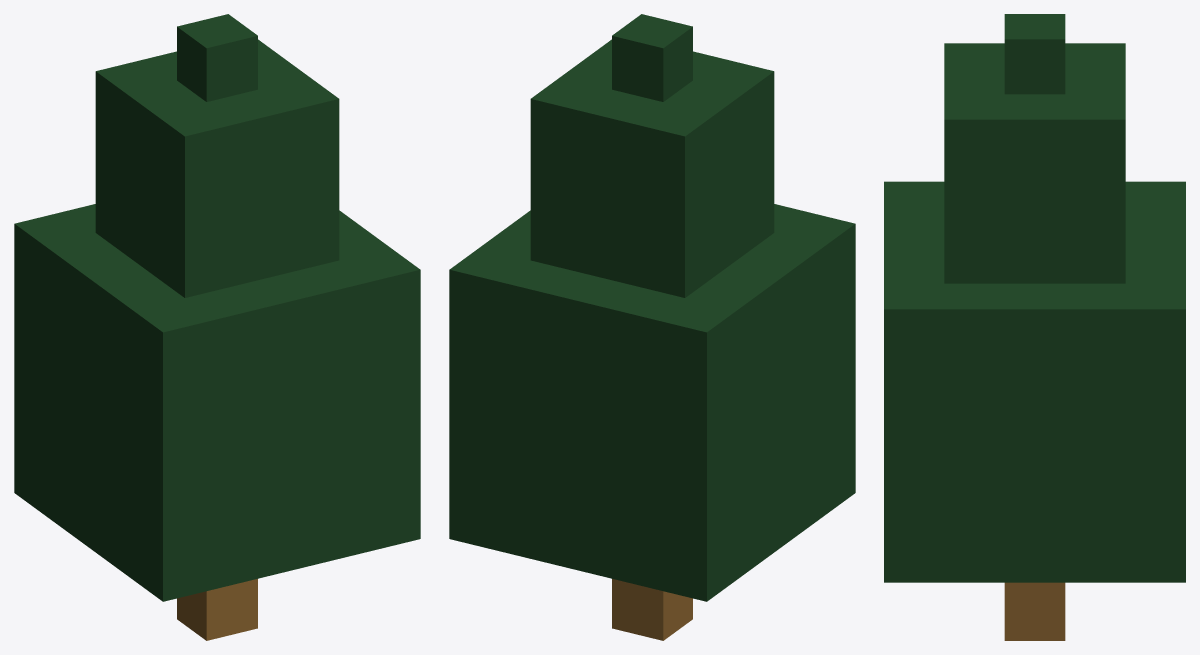
Rendered from small tree 1.glb.
3 views of the same model, side by side, from view 1: azimuth 30°, elevation 25°; view 2: azimuth 150°, elevation 25°; view 3: azimuth 270°, elevation 25° (orthographic).
Parts seen in each view (by area): view 1: pl0; view 2: pl0; view 3: pl0.
Boxes of the visible parts, <box> form: pl0: <box>14,14,420,640</box>; pl0: <box>449,14,855,640</box>; pl0: <box>884,14,1185,640</box>.
Size of the model in its own units: 0.5 by 1.1 by 0.5.
1 material, 1 textured.
